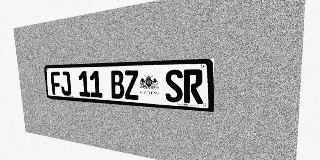1: (89, 71, 103, 98), (78, 71, 90, 97)
B: (110, 70, 125, 99)
F: (50, 72, 62, 95)
J: (60, 71, 71, 96)
R: (183, 69, 203, 104)
S: (165, 69, 183, 103)
Z: (124, 70, 139, 100)
